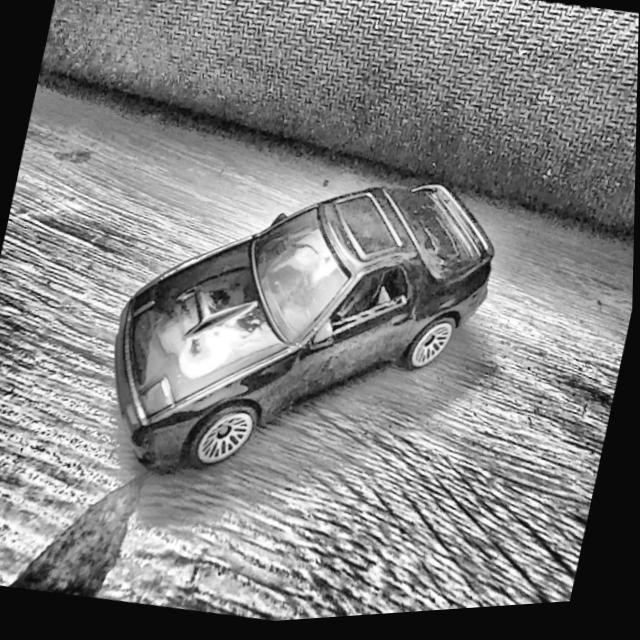car: (90, 130, 513, 533)
